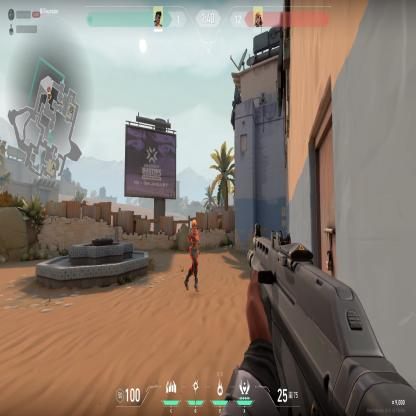enemy: (184, 218, 202, 292)
